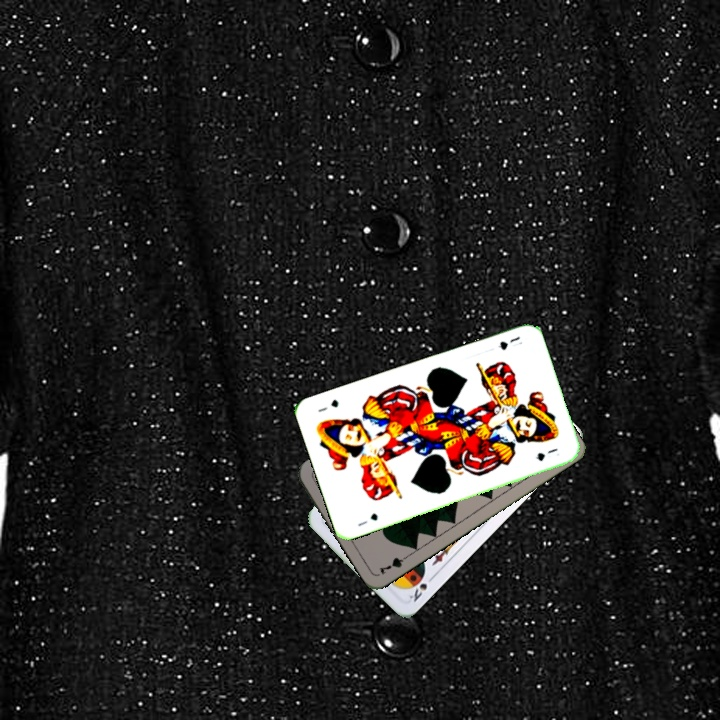G7: (375, 550, 413, 577)
GU: (494, 332, 525, 353), (354, 509, 380, 529)
SK: (405, 570, 437, 605)
